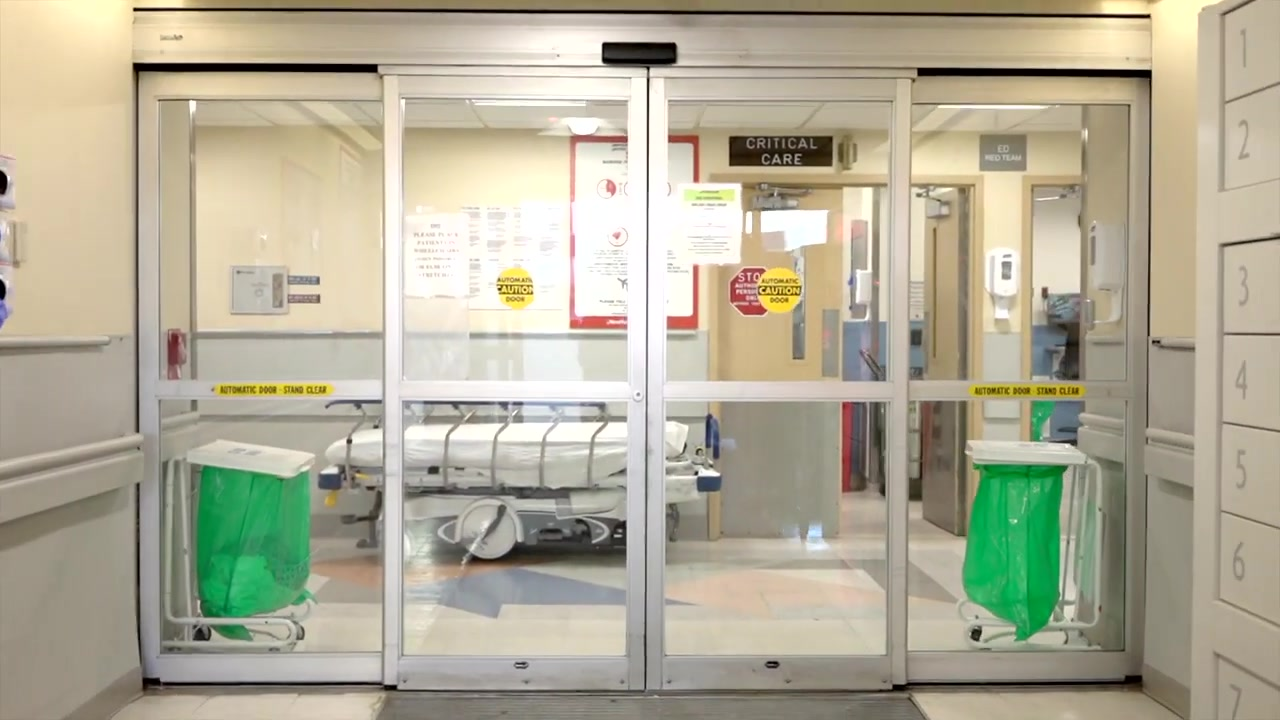bedrail: (324, 399, 609, 493)
dispenser: (1087, 219, 1126, 325), (984, 246, 1019, 320), (854, 266, 875, 312)
hallway_assist_bar: (1, 432, 144, 525), (1078, 411, 1195, 489), (1, 334, 112, 348)
hospital_bed: (319, 399, 723, 560)
waste_bin: (187, 442, 318, 643), (964, 442, 1069, 641)
